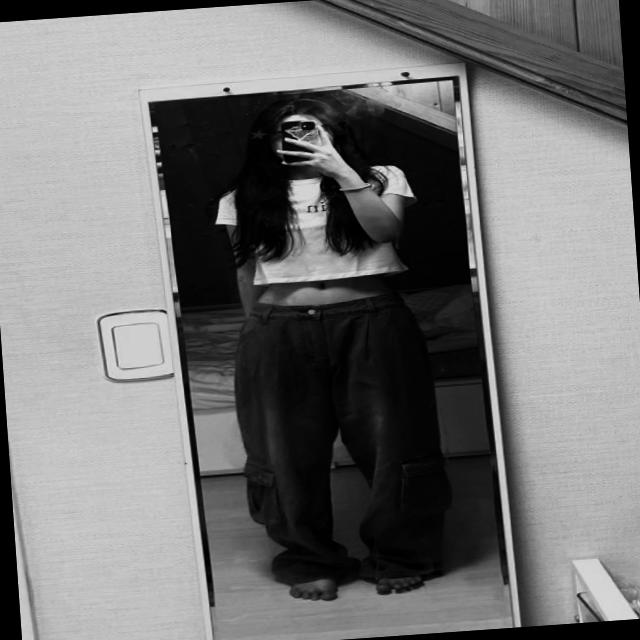cottonpants: (224, 286, 459, 596)
shortsleeve: (214, 162, 418, 287)
